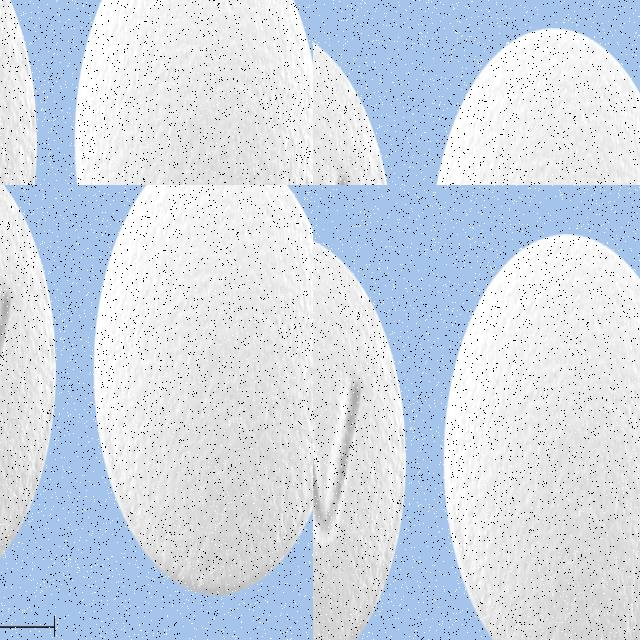Lefloxa: (92, 185, 313, 594), (0, 185, 59, 597)
Levobay: (442, 232, 640, 640), (313, 230, 411, 640)
Rofsin Tab: (64, 0, 313, 173)
